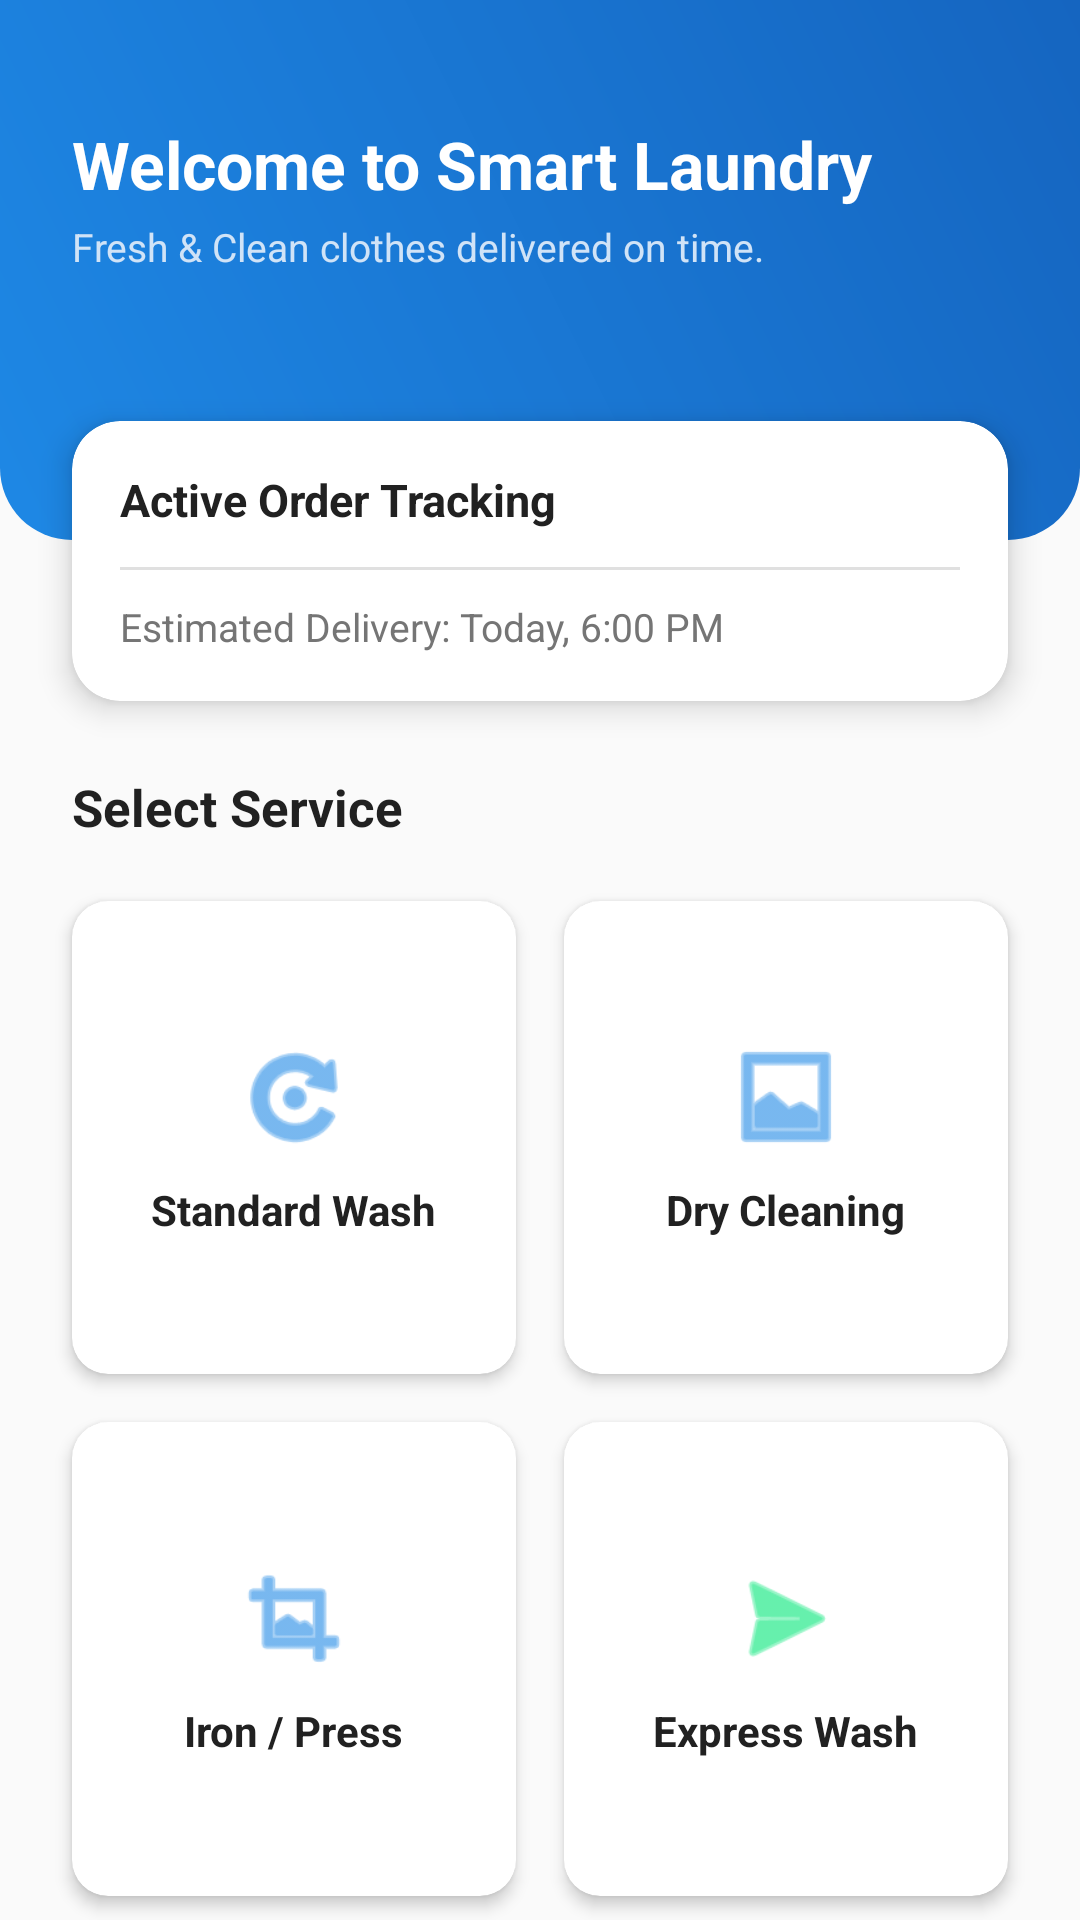

Named icons in this screenshot (1080w x 1920h) and their centers, [x,y]:
crop: [294,1618]
gallery: [786,1097]
rotate: [294,1098]
send: [787,1619]
